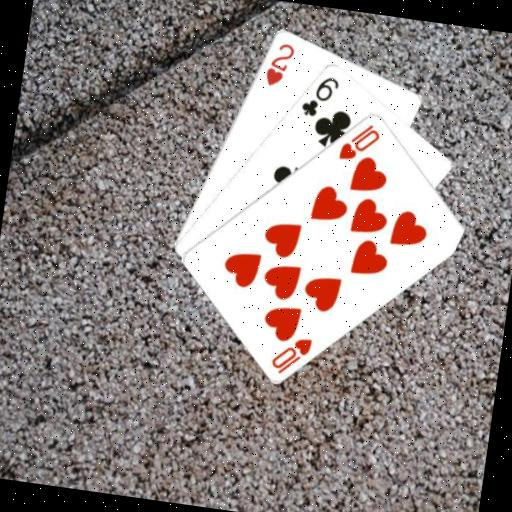10H: (335, 116, 383, 165), (266, 330, 314, 379)
2H: (260, 37, 297, 90)
6C: (297, 70, 342, 121)
